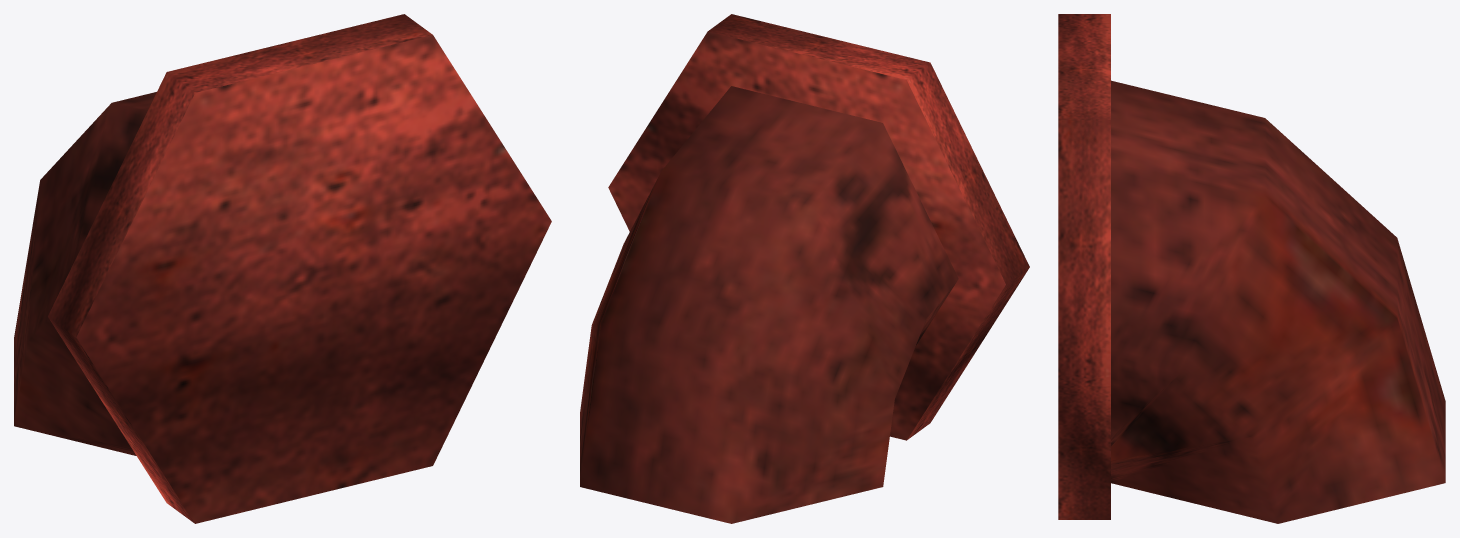
The model's file is small_red_1_elbow.fbx.
The picture shows the model from 3 angles, left to right: view 1: azimuth 30°, elevation 25°; view 2: azimuth 150°, elevation 25°; view 3: azimuth 270°, elevation 25°; orthographic projection. The views are drawn at different scales.
Visible parts, largest first — view 1: polySurface649; view 2: polySurface649; view 3: polySurface649.
Part boxes in pixels (left/top/right/bottom): polySurface649: left=14, top=14, right=551, bottom=523; polySurface649: left=580, top=14, right=1029, bottom=523; polySurface649: left=1058, top=14, right=1445, bottom=523.
Size of the model in its own units: 0.6563 by 0.5683 by 0.5006.
